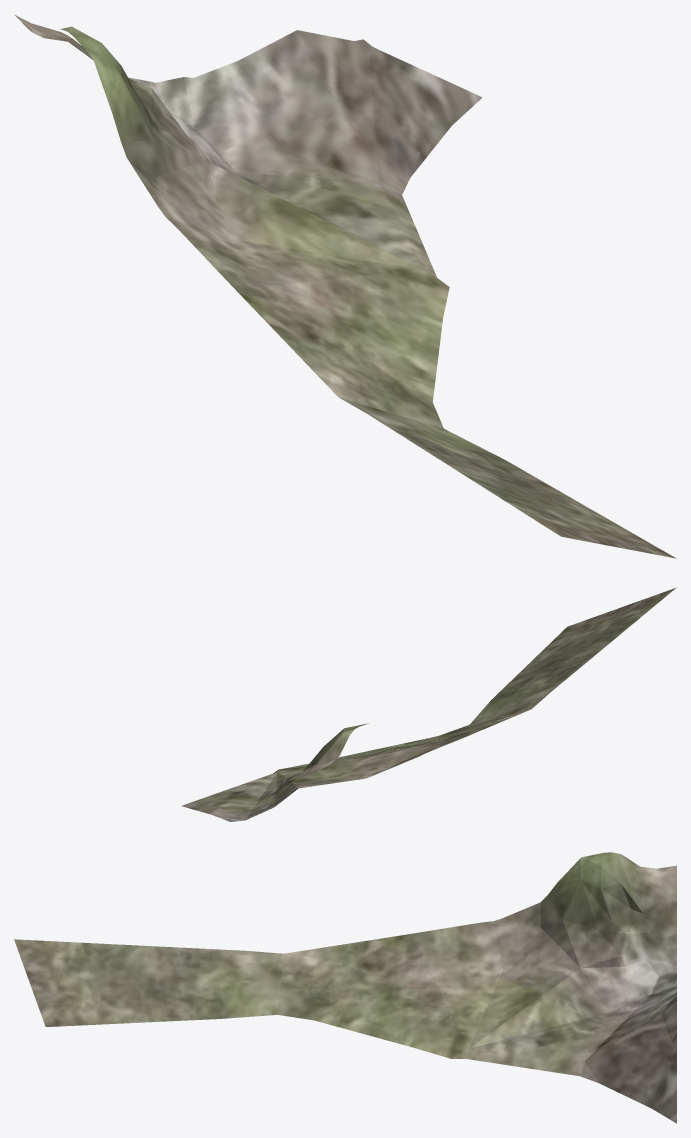
The picture shows the model from 3 angles, top to bottom: view 1: azimuth 30°, elevation 25°; view 2: azimuth 150°, elevation 25°; view 3: azimuth 270°, elevation 25°; orthographic projection. The views are drawn at different scales.
Size of the model in its own units: 1.27 by 0.568 by 2.57.
Materials: 1 (1 with a texture image).
